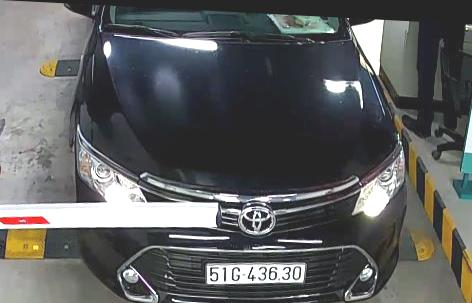License_Plate: (207, 253, 317, 293)
